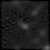node: (18, 20, 30, 30)
